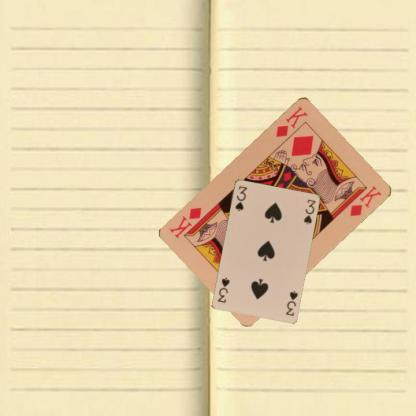3s: (232, 183, 248, 212), (283, 288, 299, 316)
Kd: (272, 103, 310, 138)
